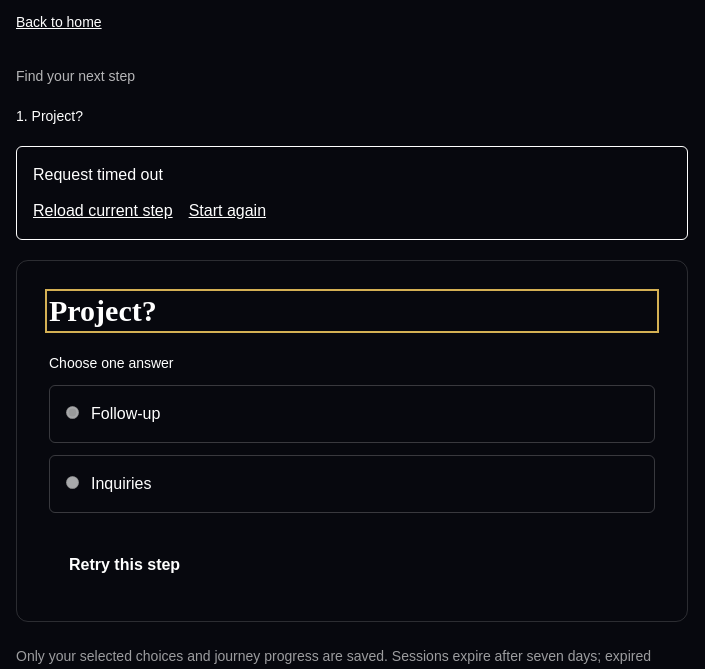
it: public journey runner › can safely retry an uncertain automatic project transition
Expected: the message "Request timed out Reload current step Start again" is shown, 16,146 -> 688,240
Step 1. Click the button "Retry this step" → coordinates (125, 565), box 49,541 -> 200,589
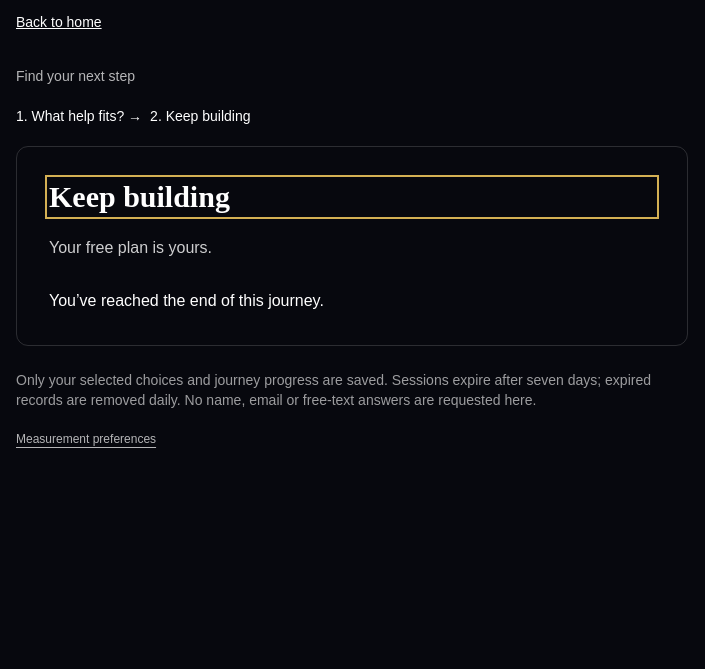
Expected: the heading "Keep building" is shown, 49,180 -> 230,213
